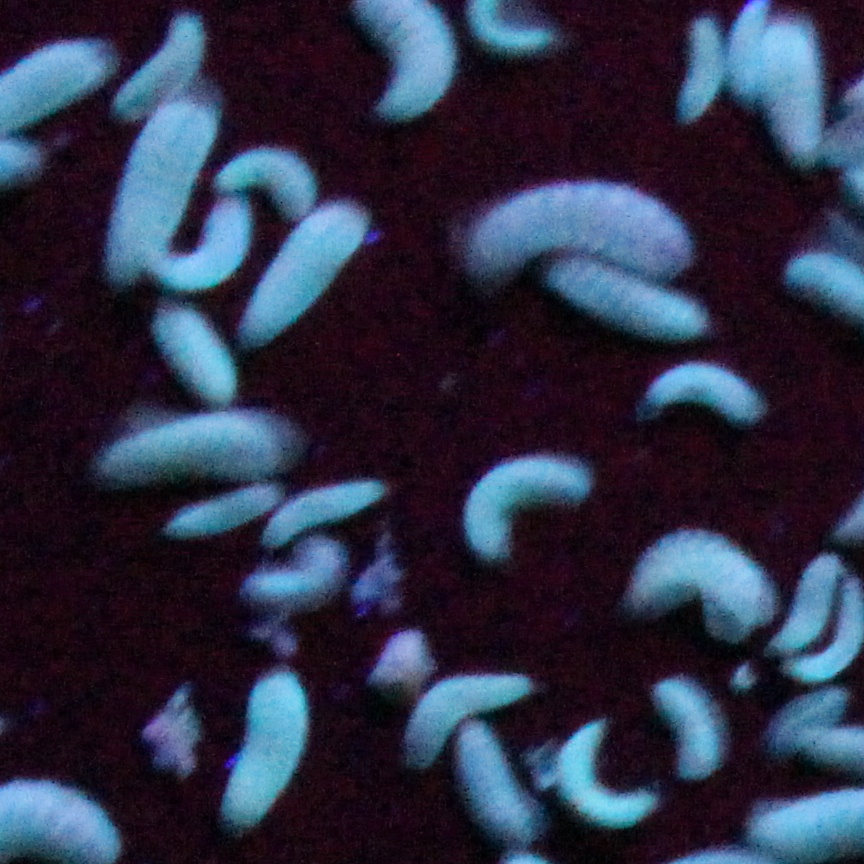larve: (452, 163, 706, 264), (613, 517, 773, 643), (250, 212, 387, 352), (453, 449, 597, 573), (222, 657, 308, 864), (92, 415, 299, 482), (118, 115, 192, 275), (450, 729, 557, 838), (136, 298, 234, 405), (362, 1, 445, 119), (550, 275, 710, 335), (643, 675, 729, 782), (564, 724, 641, 836), (769, 15, 829, 152), (125, 10, 206, 103), (634, 363, 766, 420), (218, 143, 322, 212), (462, 1, 571, 64), (273, 482, 392, 535), (671, 13, 720, 128), (167, 480, 271, 531), (418, 678, 529, 724), (788, 557, 836, 654), (727, 1, 762, 120)
